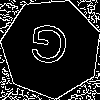G: (26, 23, 71, 74)
